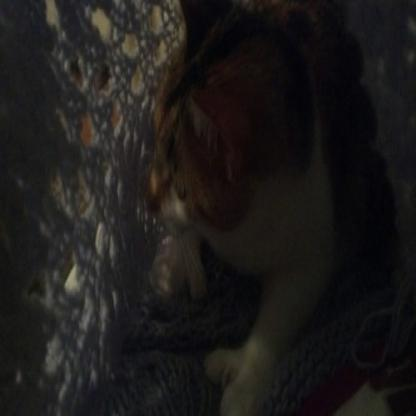Target: (160, 5, 344, 406)
